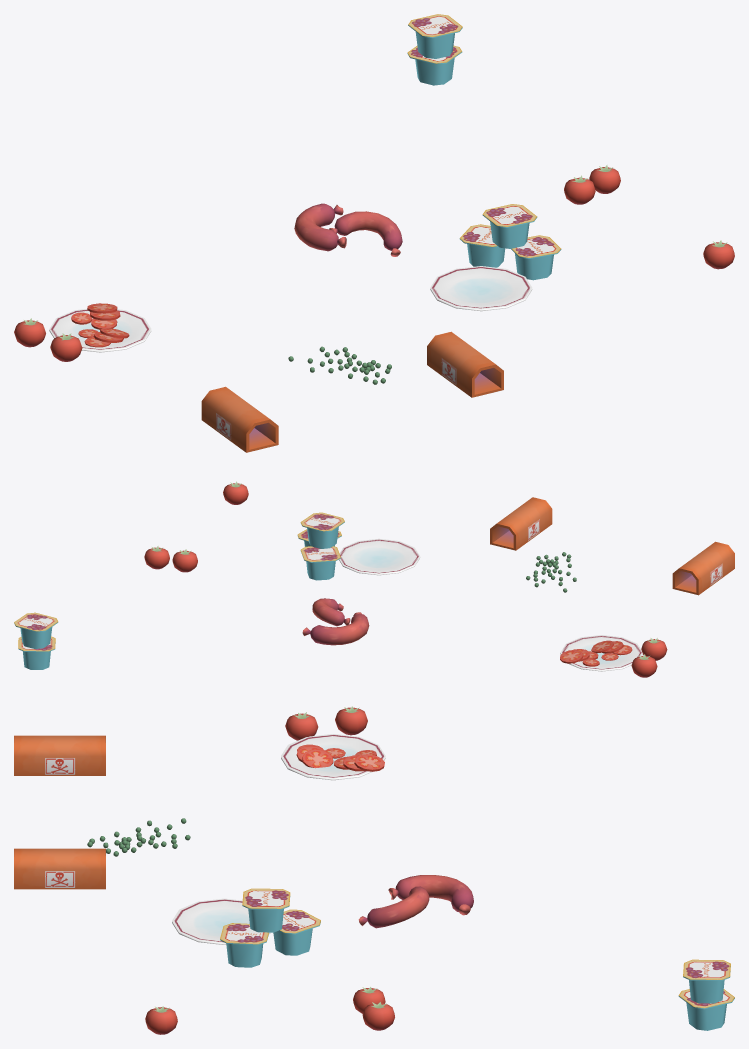
3 renders of one model, top to bottom at view 1: azimuth 30°, elevation 25°; view 2: azimuth 150°, elevation 25°; view 3: azimuth 270°, elevation 25°, orthographic. The views are drawn at different scales.
Parts seen in each view (by area): view 1: Plate, RatTrap3, RatTrap2, Plate2, Joghurt5, SausageCurved, Joghurt2, SausageCurved1, Joghurt4, Joghurt3, Joghurt, SlicedTomatostack (+5 smaller); view 2: Plate, RatTrap2, RatTrap3, Plate2, SausageCurved, Joghurt5, Joghurt3, Joghurt2, Joghurt, SausageCurved1, SlicedTomatostack1, SlicedTomatostack (+6 smaller); view 3: RatTrap2, RatTrap3, Plate, Plate2, SausageCurved, Joghurt5, Joghurt4, Joghurt3, SausageCurved1, Joghurt2, Joghurt, Joghurt2 (1) (+7 smaller).
Boxes of the visible parts, x1=… form: Plate: x1=430, y1=266, x2=532, y2=311; RatTrap3: x1=201, y1=386, x2=278, y2=452; RatTrap2: x1=427, y1=331, x2=503, y2=397; Plate2: x1=49, y1=309, x2=151, y2=352; Joghurt5: x1=482, y1=204, x2=537, y2=248; SausageCurved: x1=294, y1=203, x2=346, y2=251; Joghurt2: x1=408, y1=14, x2=462, y2=58; SausageCurved1: x1=329, y1=211, x2=402, y2=256; Joghurt4: x1=511, y1=235, x2=561, y2=280; Joghurt3: x1=459, y1=224, x2=505, y2=267; Joghurt: x1=407, y1=45, x2=462, y2=85; SlicedTomatostack: x1=71, y1=303, x2=120, y2=329; Plate: x1=339, y1=538, x2=420, y2=575; RatTrap2: x1=490, y1=497, x2=552, y2=550; RatTrap3: x1=672, y1=541, x2=734, y2=595; Plate2: x1=560, y1=635, x2=642, y2=671; SausageCurved: x1=302, y1=612, x2=369, y2=645; Joghurt5: x1=300, y1=512, x2=344, y2=548; Joghurt3: x1=300, y1=546, x2=340, y2=580; Joghurt2: x1=14, y1=612, x2=58, y2=648; Joghurt: x1=18, y1=636, x2=55, y2=669; SausageCurved1: x1=312, y1=598, x2=350, y2=626; SlicedTomatostack1: x1=591, y1=640, x2=632, y2=660; SlicedTomatostack: x1=560, y1=649, x2=599, y2=666; RatTrap2: x1=14, y1=848, x2=105, y2=889; RatTrap3: x1=14, y1=735, x2=105, y2=775; Plate: x1=172, y1=898, x2=270, y2=944; Plate2: x1=281, y1=734, x2=385, y2=780; SausageCurved: x1=388, y1=875, x2=473, y2=915; Joghurt5: x1=242, y1=888, x2=290, y2=932; Joghurt4: x1=220, y1=923, x2=269, y2=967; Joghurt3: x1=273, y1=909, x2=320, y2=955; SausageCurved1: x1=358, y1=886, x2=429, y2=928; Joghurt2: x1=683, y1=959, x2=730, y2=1003; Joghurt: x1=678, y1=989, x2=734, y2=1030; Joghurt2 (1): x1=684, y1=960, x2=730, y2=1003.
Size of what is drawn, in the model's own units: 38.81 by 3.53 by 37.72.
